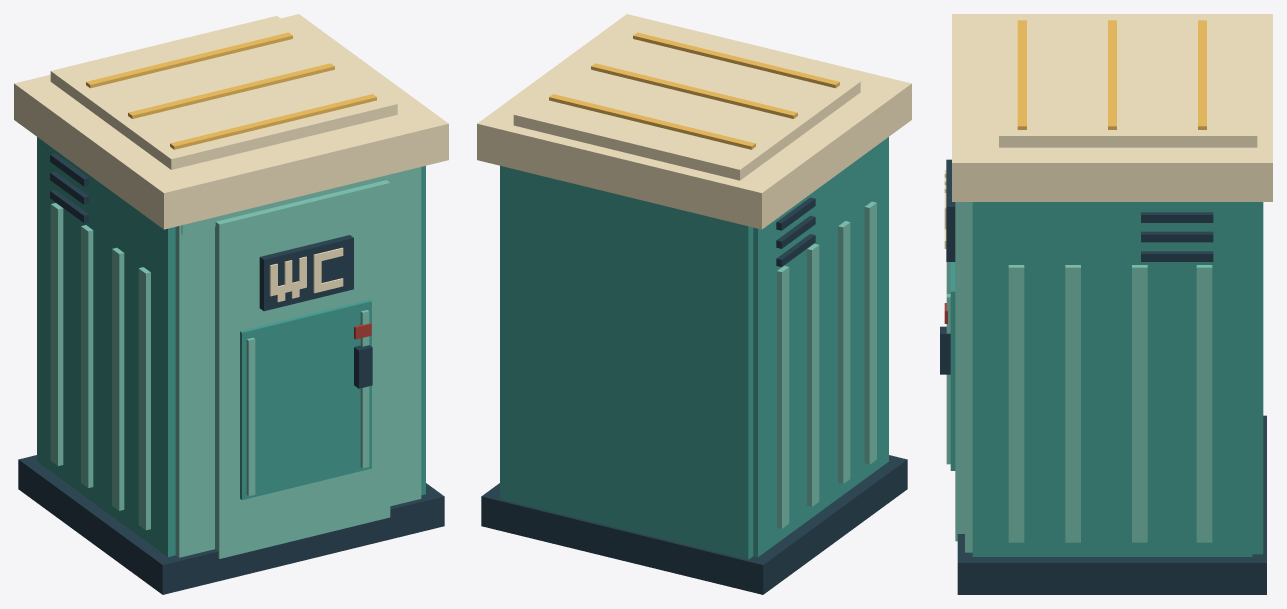
The model's file is portable_toilet.glb.
3 views of the same model, side by side, from view 1: azimuth 30°, elevation 25°; view 2: azimuth 150°, elevation 25°; view 3: azimuth 270°, elevation 25° (orthographic). The views are drawn at different scales.
Visible parts, largest first — view 1: Door leaf, Molded side, Ivory canopy, Raised cap, Inset panel, Skid base, Front jamb, Front jamb.001, WC placard, Panel reinforcement, Panel reinforcement.003, Panel reinforcement.001 (+9 smaller); view 2: Back panel, Molded side, Ivory canopy, Raised cap, Skid base, Panel reinforcement, Panel reinforcement.003, Panel reinforcement.001, Panel reinforcement.002, Canopy fold, Canopy fold.002, Canopy fold.001; view 3: Molded side.001, Raised cap, Ivory canopy, Skid base, Panel reinforcement.004, Panel reinforcement.007, Panel reinforcement.005, Panel reinforcement.006, Back panel, Door leaf, Front jamb.001, Inset panel (+9 smaller).
Boxes of the visible parts, x1,y1,x2,y2 form: Door leaf: (215,180,390,558); Molded side: (37,137,175,556); Ivory canopy: (14,14,448,229); Raised cap: (50,16,397,169); Inset panel: (240,299,371,499); Skid base: (18,455,444,594); Front jamb: (175,225,214,557); Front jamb.001: (390,167,421,506); WC placard: (259,235,353,311); Panel reinforcement: (50,203,63,465); Panel reinforcement.003: (138,267,150,530); Panel reinforcement.001: (81,225,93,487); Back panel: (500,166,753,559); Molded side: (753,137,888,556); Ivory canopy: (477,14,911,229); Raised cap: (513,26,860,180); Skid base: (481,455,907,594); Panel reinforcement: (777,265,789,528); Panel reinforcement.003: (864,201,876,464); Panel reinforcement.001: (807,243,819,506); Panel reinforcement.002: (838,221,850,483); Canopy fold: (549,94,755,149); Canopy fold.002: (633,32,839,88); Canopy fold.001: (591,63,797,118); Molded side.001: (972,202,1252,556); Raised cap: (999,17,1257,147); Ivory canopy: (952,14,1272,201); Skid base: (957,415,1266,594); Panel reinforcement.004: (1196,265,1212,542); Panel reinforcement.007: (1008,265,1024,542); Panel reinforcement.005: (1132,265,1147,542); Panel reinforcement.006: (1065,265,1080,542); Back panel: (1252,202,1263,554); Door leaf: (955,202,964,541); Front jamb.001: (965,202,972,552); Inset panel: (950,262,955,470).
Size of the model in its own units: 1.8 by 2.52 by 1.7.
